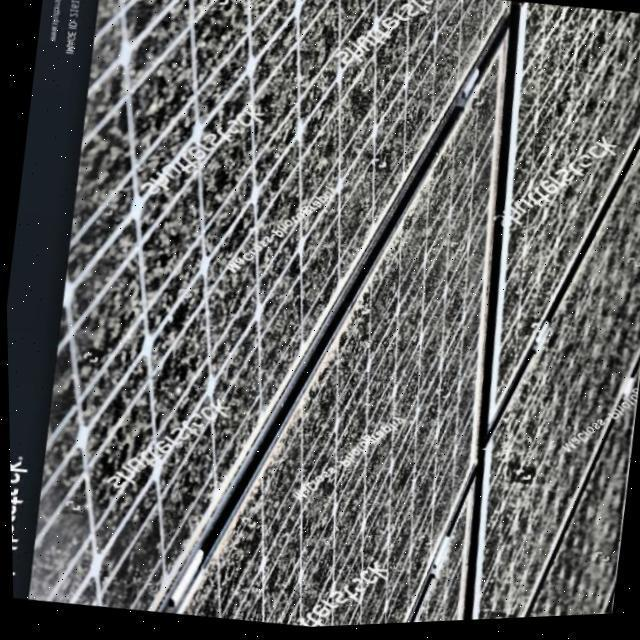Anomaly Solar Panel: (25, 0, 509, 613), (182, 38, 509, 630), (471, 8, 640, 624)
Surface Contaminant: (26, 0, 504, 612), (186, 66, 499, 630), (479, 8, 640, 624)
